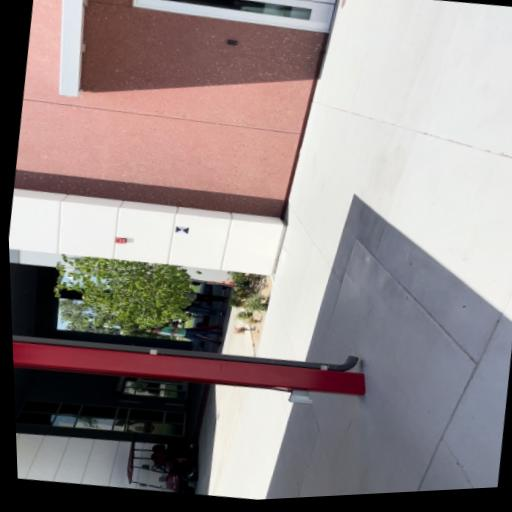target6: (175, 226, 189, 234)
